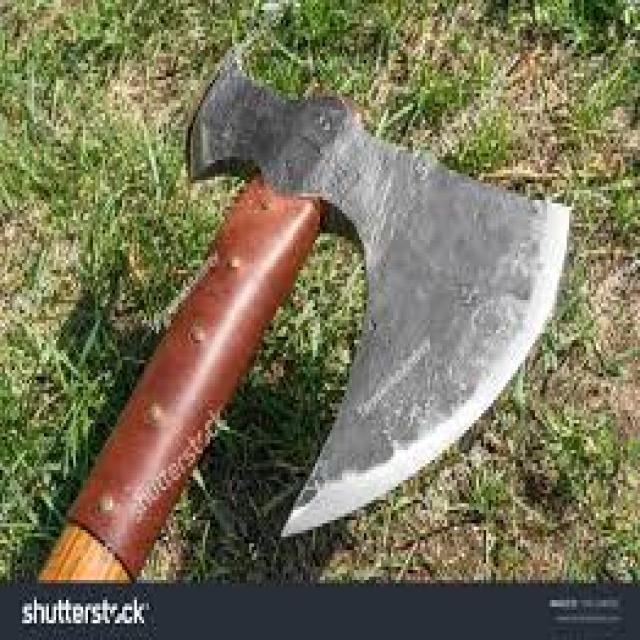Gun: (36, 66, 581, 580)
